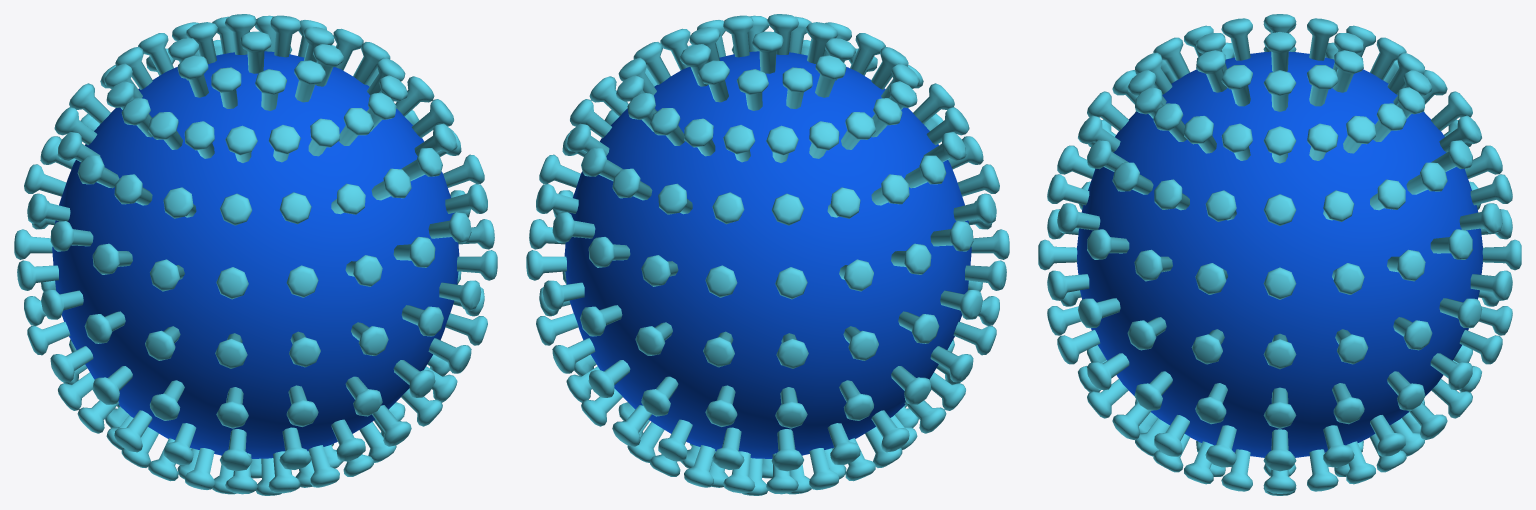
Rendered from Virus_0.fbx.
3 renders of one model, left to right at view 1: azimuth 30°, elevation 25°; view 2: azimuth 150°, elevation 25°; view 3: azimuth 270°, elevation 25°, orthographic.
Parts seen in each view (by area): view 1: Virus.001; view 2: Virus.001; view 3: Virus.001.
Part boxes in pixels (x1=…): Virus.001: x1=14, y1=14, x2=497, y2=495; Virus.001: x1=526, y1=14, x2=1009, y2=495; Virus.001: x1=1038, y1=14, x2=1521, y2=495.
Bounding box in the file's own units: 237 × 237 × 237.
